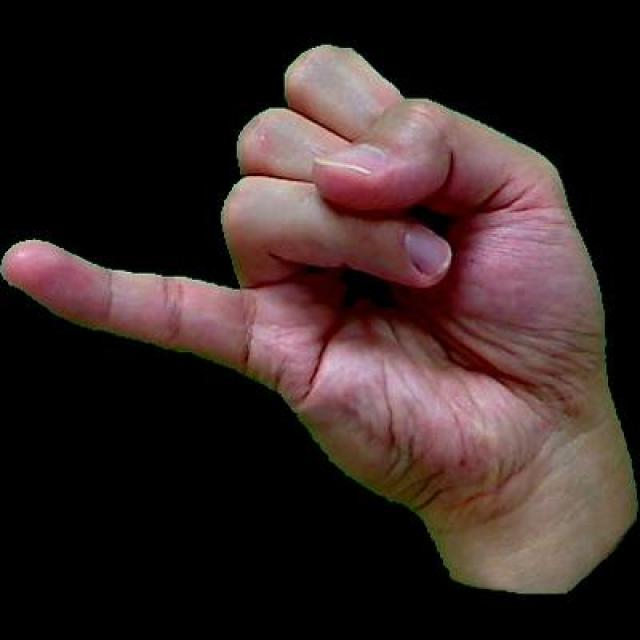j: (0, 24, 637, 613)
